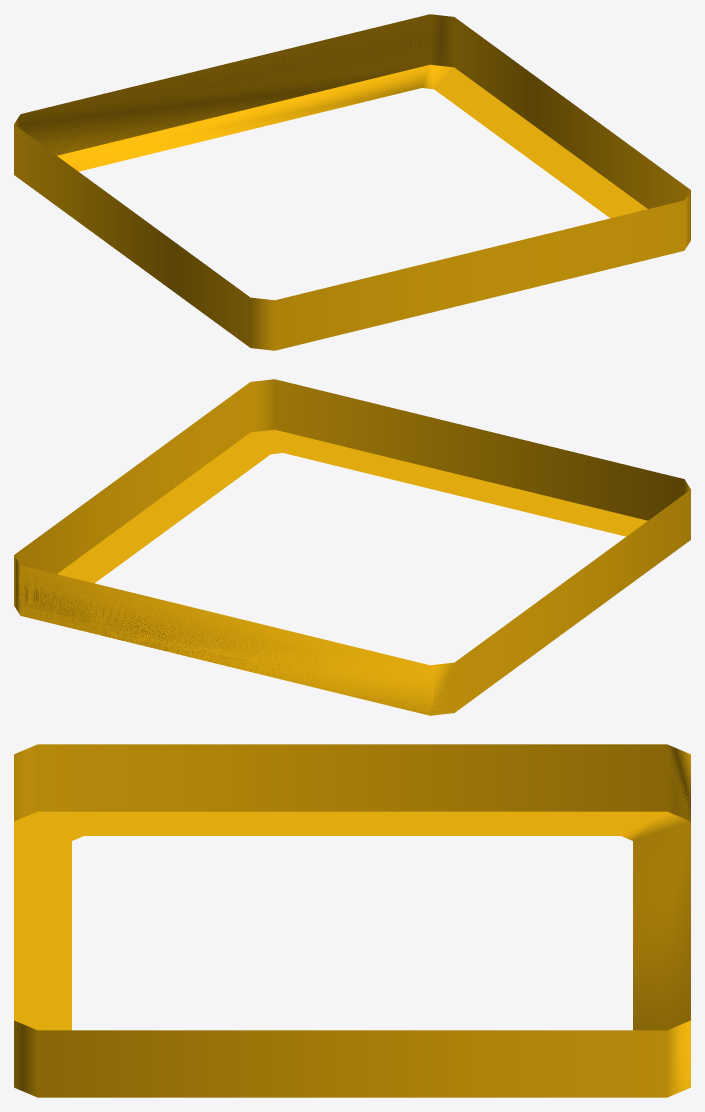
Rendered from DRA_ExtractionOutlineCustom.fbx.
The picture shows the model from 3 angles, top to bottom: view 1: azimuth 30°, elevation 25°; view 2: azimuth 150°, elevation 25°; view 3: azimuth 270°, elevation 25°; orthographic projection. The views are drawn at different scales.
Parts seen in each view (by area): view 1: ExtractionOutlineCustom; view 2: ExtractionOutlineCustom; view 3: ExtractionOutlineCustom.
Part boxes in pixels (x1,y1,x2,y2): ExtractionOutlineCustom: [14, 14, 690, 350]; ExtractionOutlineCustom: [14, 379, 690, 715]; ExtractionOutlineCustom: [14, 744, 690, 1097].
Bounding box in the file's own units: 456 × 50 × 456.
